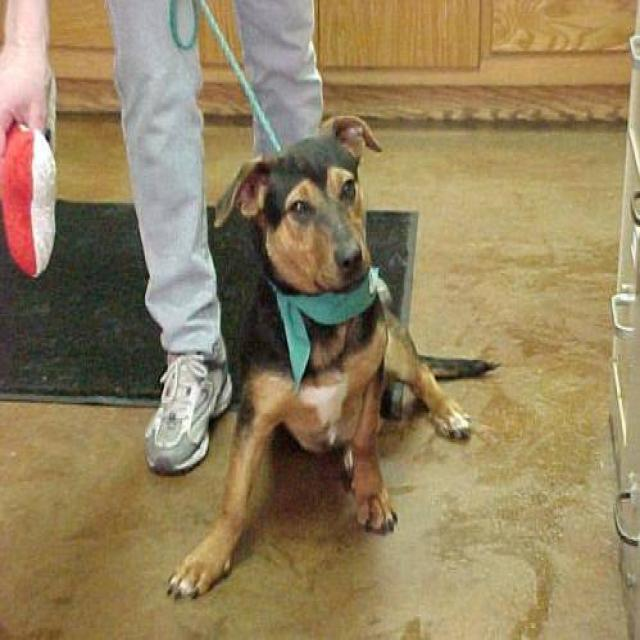dog: (164, 111, 499, 602)
